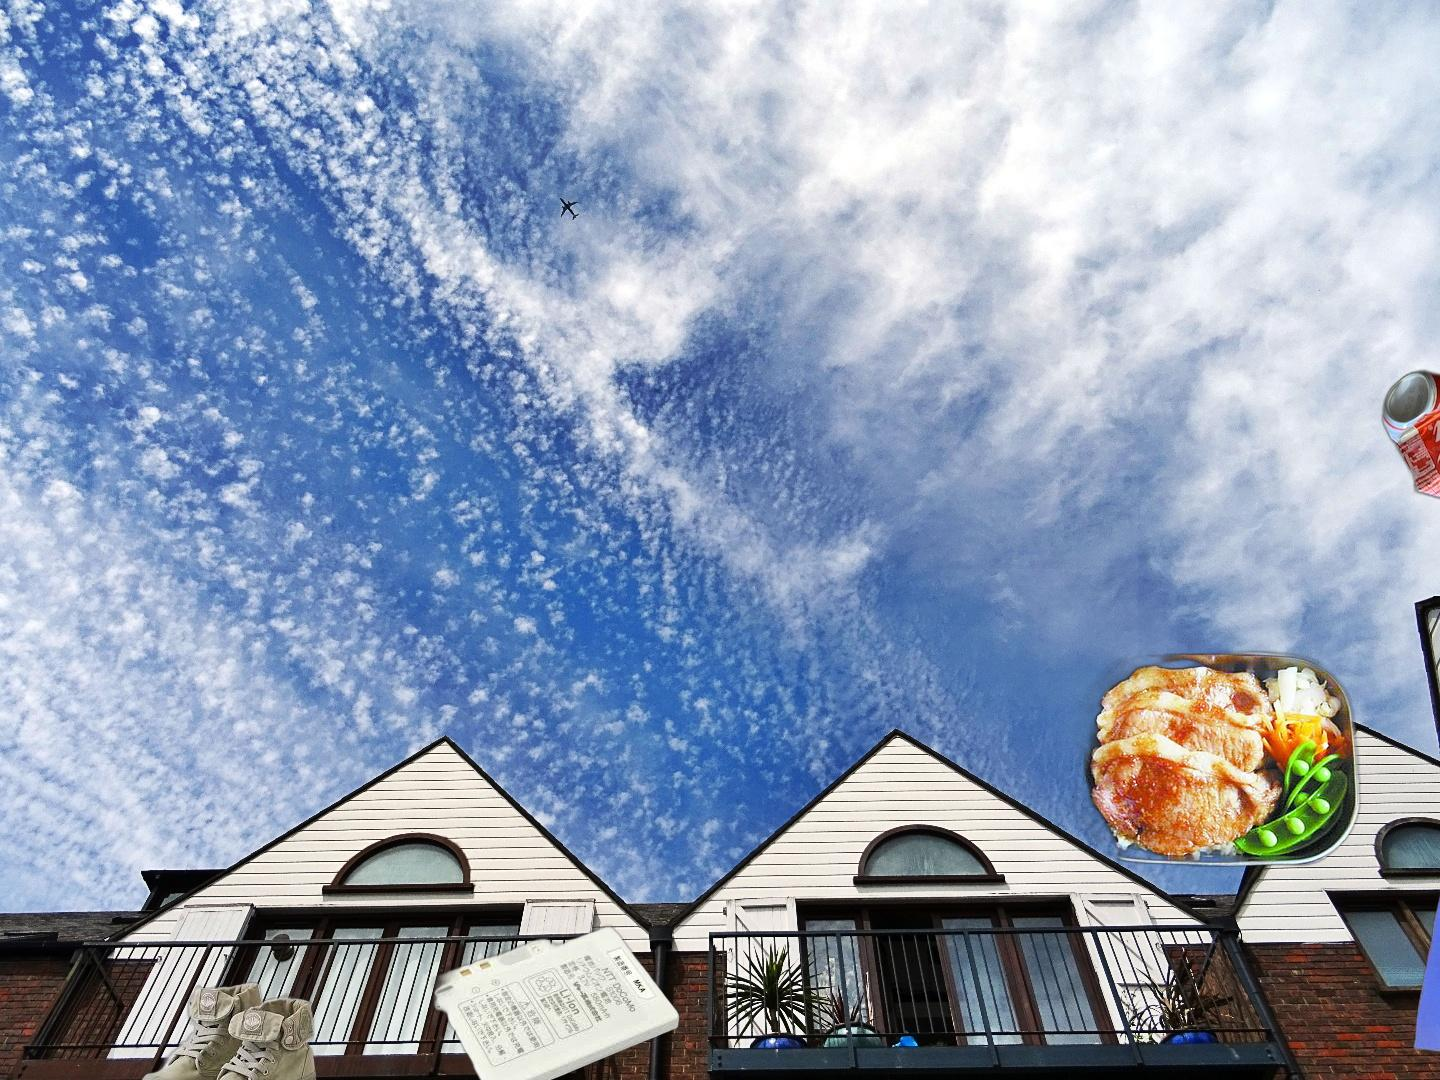battery: (424, 917, 683, 1080)
biological: (1064, 642, 1364, 870), (1396, 1002, 1440, 1080)
clothes: (1411, 775, 1440, 1072)
metal-cans: (1378, 365, 1440, 511)
shoes: (136, 977, 319, 1080)
